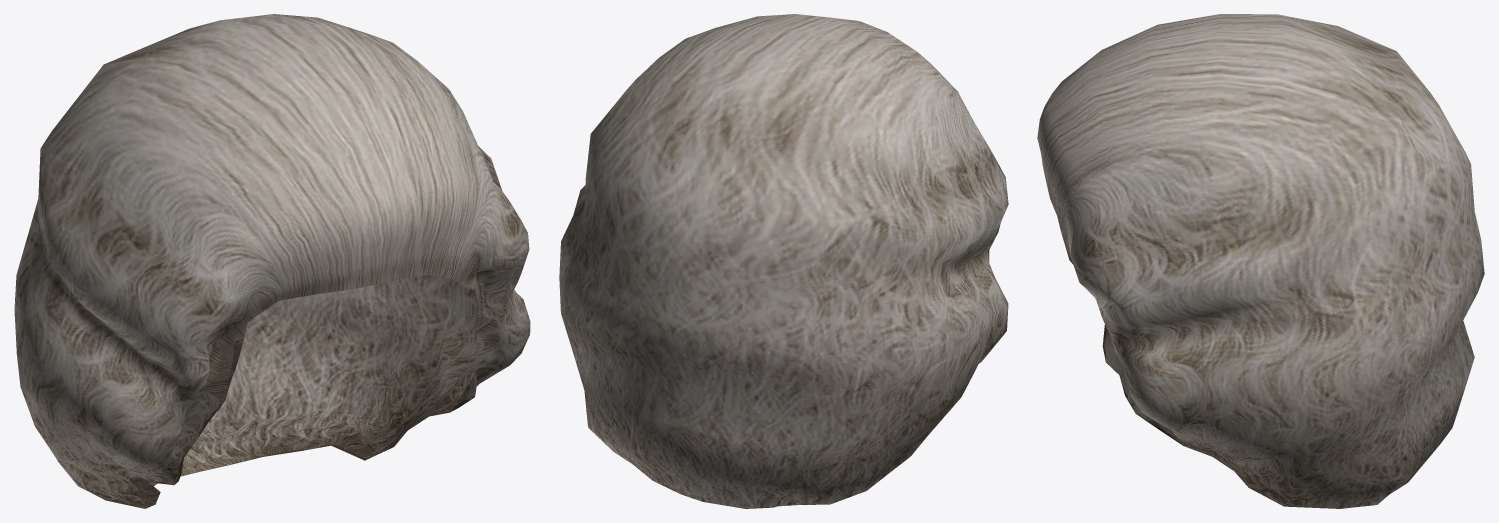
The picture shows the model from 3 angles, left to right: view 1: azimuth 30°, elevation 25°; view 2: azimuth 150°, elevation 25°; view 3: azimuth 270°, elevation 25°; orthographic projection. The views are drawn at different scales.
Visible parts, largest first — view 1: H_Q3_F_Hr_0011; view 2: H_Q3_F_Hr_0011; view 3: H_Q3_F_Hr_0011.
Part boxes in pixels (box(x1,y1,x2,y2)): H_Q3_F_Hr_0011: box(14, 14, 530, 508); H_Q3_F_Hr_0011: box(559, 14, 1008, 508); H_Q3_F_Hr_0011: box(1037, 14, 1484, 508).
Size of the model in its own units: 28.13 by 26.22 by 28.53.
Materials: 1 (1 with a texture image).
